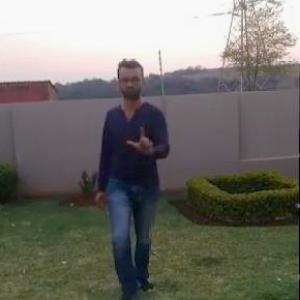land_hand: (124, 123, 159, 159)
